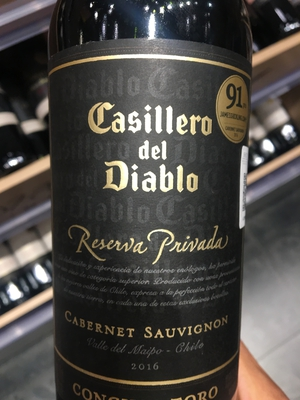casillero del diablo reserva privada cabernet sauvignon: (39, 8, 274, 400)
